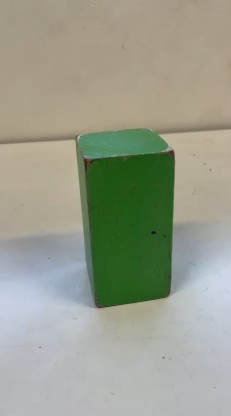green: (69, 123, 174, 308)
